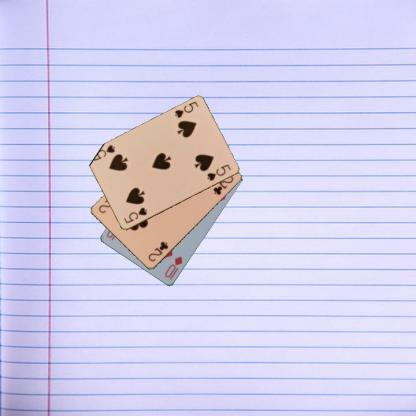10d: (162, 254, 184, 281)
2c: (146, 239, 169, 263)
5s: (172, 99, 200, 120), (122, 205, 148, 225)
